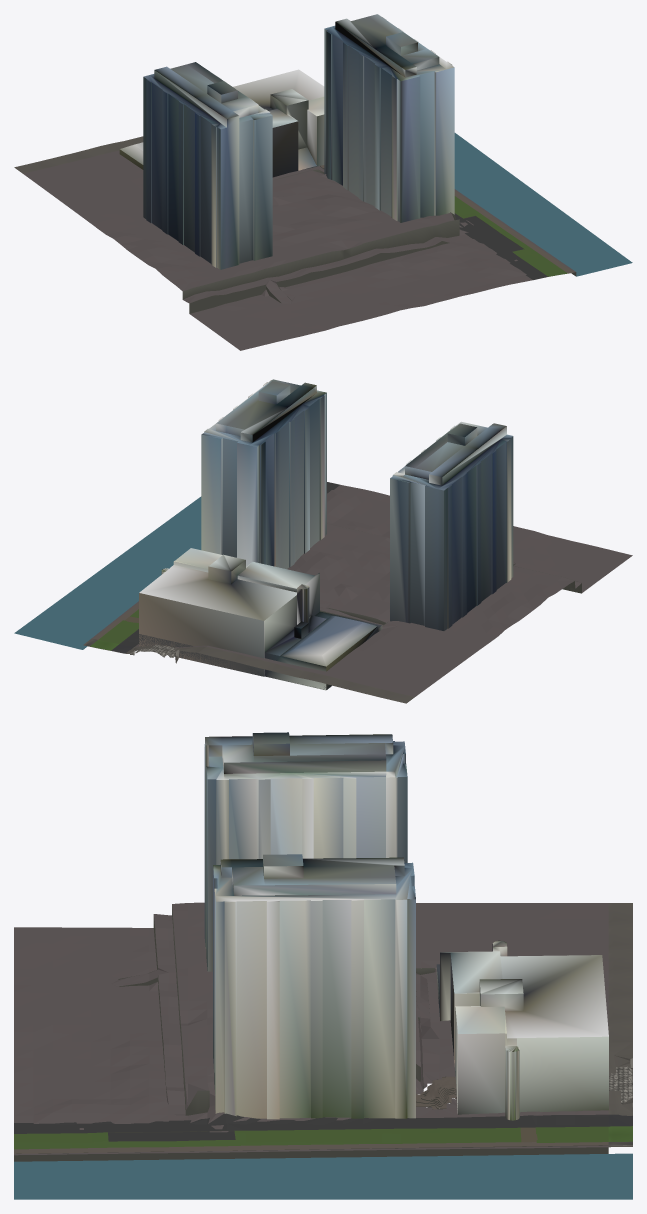
3 views of the same model, one above another, from view 1: azimuth 30°, elevation 25°; view 2: azimuth 150°, elevation 25°; view 3: azimuth 270°, elevation 25° (orthographic). The views are drawn at different scales.
Visible parts, largest first — view 1: c_p04_m09; view 2: c_p04_m09; view 3: c_p04_m09.
Boxes of the visible parts, left/top/right/bottom form: c_p04_m09: left=14, top=14, right=632, bottom=350; c_p04_m09: left=14, top=379, right=632, bottom=703; c_p04_m09: left=14, top=732, right=632, bottom=1199.
Bounding box in the file's own units: 128 × 57.23 × 128.
